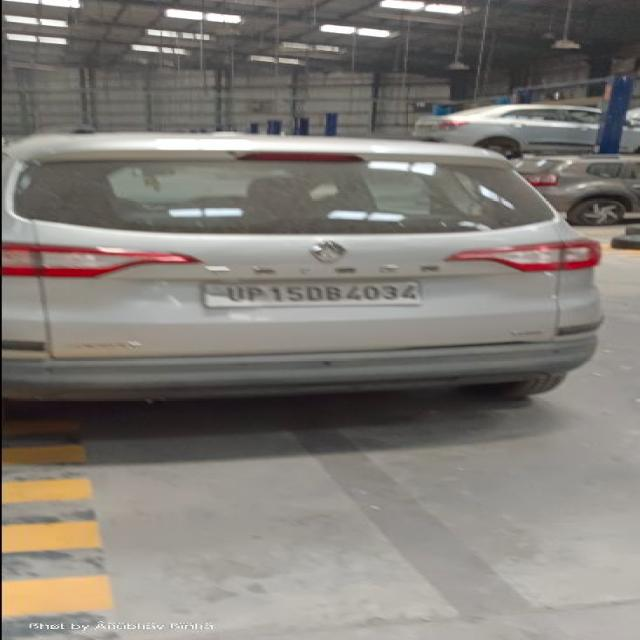license_plate: (199, 278, 424, 308)
